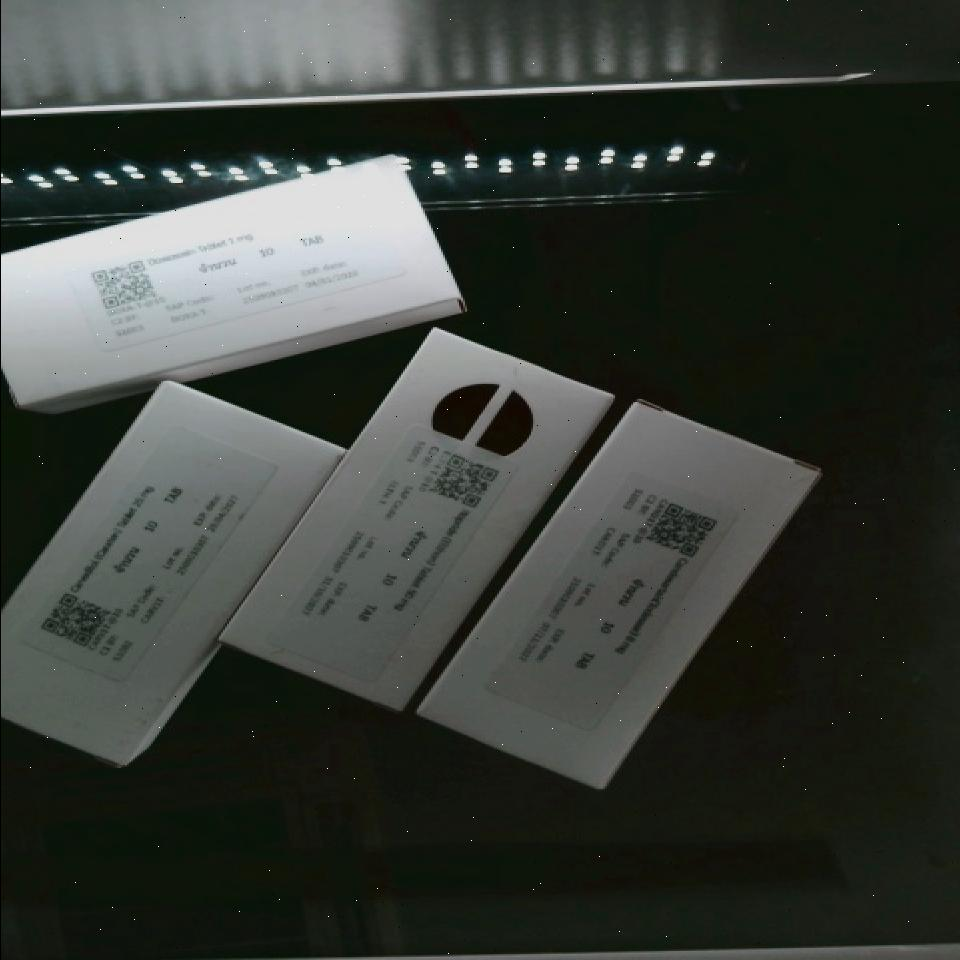medicine_box: (419, 362, 819, 823), (219, 289, 609, 742), (0, 341, 340, 789), (0, 148, 455, 406)
qr_code: (622, 478, 741, 583), (16, 570, 133, 674), (407, 434, 518, 532), (65, 240, 176, 335)
